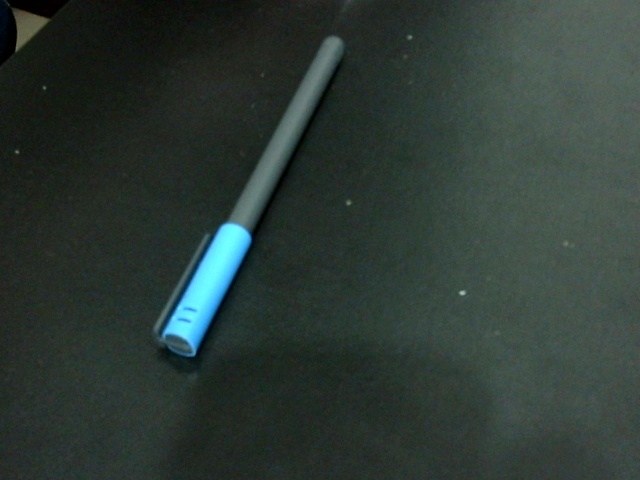pen: (127, 23, 371, 364)
